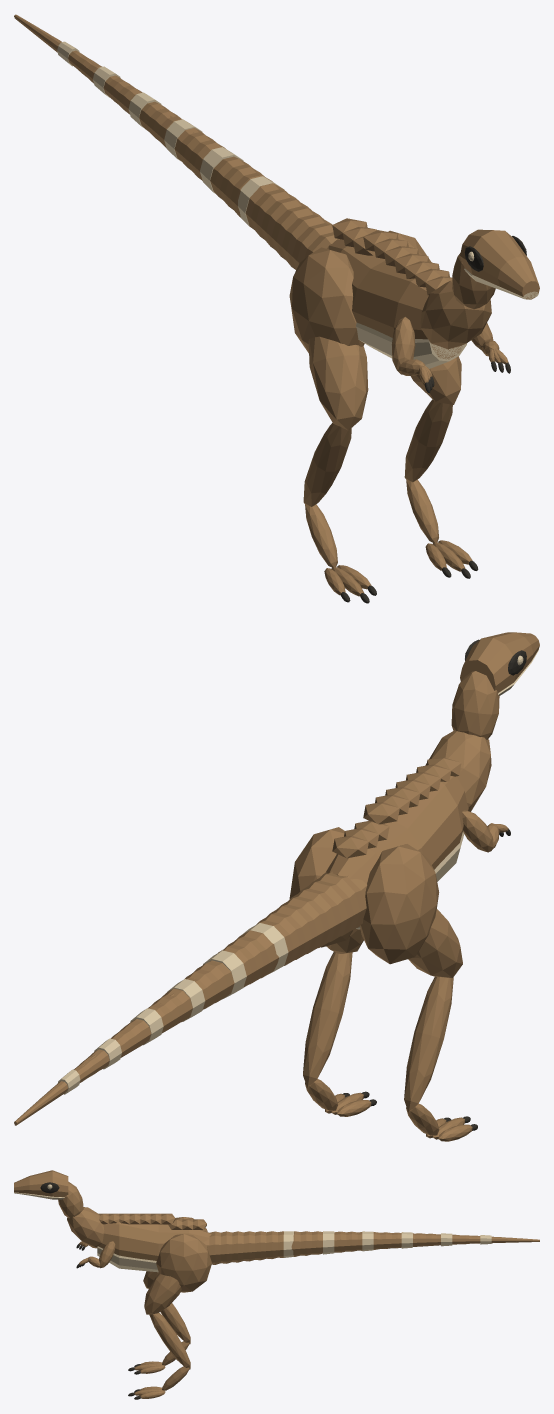
3 views of the same model, one above another, from view 1: azimuth 30°, elevation 25°; view 2: azimuth 150°, elevation 25°; view 3: azimuth 270°, elevation 25° (orthographic). The views are drawn at different scales.
Visible parts, largest first — view 1: surface_warm_brown, surface_cream, surface_eyes_claws; view 2: surface_warm_brown, surface_cream, surface_eyes_claws; view 3: surface_warm_brown, surface_cream, surface_eyes_claws.
Part boxes in pixels (x1=…): surface_warm_brown: x1=14, y1=14, x2=539, y2=596; surface_cream: x1=57, y1=41, x2=538, y2=368; surface_eyes_claws: x1=341, y1=236, x2=526, y2=603; surface_warm_brown: x1=14, y1=632, x2=539, y2=1141; surface_cream: x1=58, y1=644, x2=538, y2=1094; surface_eyes_claws: x1=342, y1=639, x2=526, y2=1130; surface_warm_brown: x1=14, y1=1170, x2=539, y2=1398; surface_cream: x1=14, y1=1184, x2=491, y2=1272; surface_eyes_claws: x1=40, y1=1182, x2=140, y2=1399.
Size of the model in its own units: 0.0922 by 0.2672 by 0.6.
